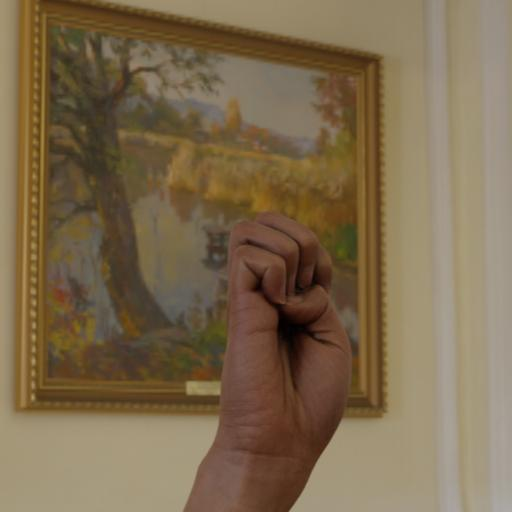E: (191, 198, 373, 512)
